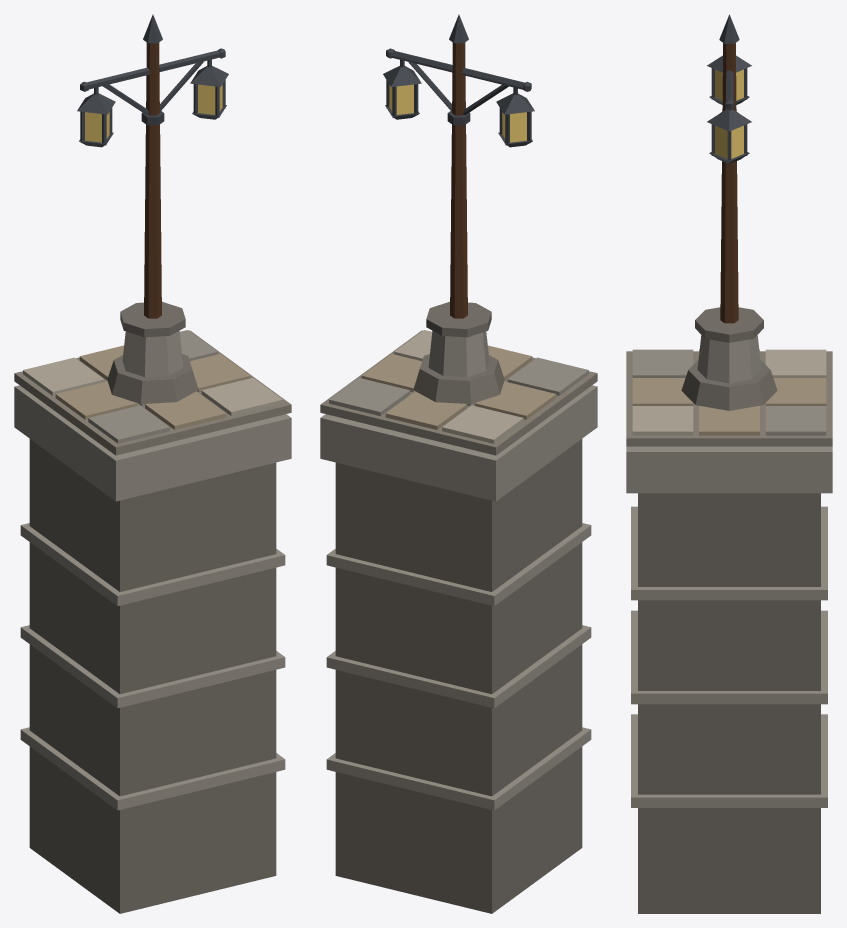
Rendered from decor_lamp_double.glb.
The picture shows the model from 3 angles, left to right: view 1: azimuth 30°, elevation 25°; view 2: azimuth 150°, elevation 25°; view 3: azimuth 270°, elevation 25°; orthographic projection.
Visible parts, largest first — view 1: decor_lamp_double; view 2: decor_lamp_double; view 3: decor_lamp_double.
Boxes of the visible parts, x1,y1,x2,y2 form: decor_lamp_double: [14, 14, 291, 913]; decor_lamp_double: [320, 14, 597, 913]; decor_lamp_double: [626, 14, 832, 913].
Bounding box in the file's own units: 1.8 × 8.3 × 1.8.
